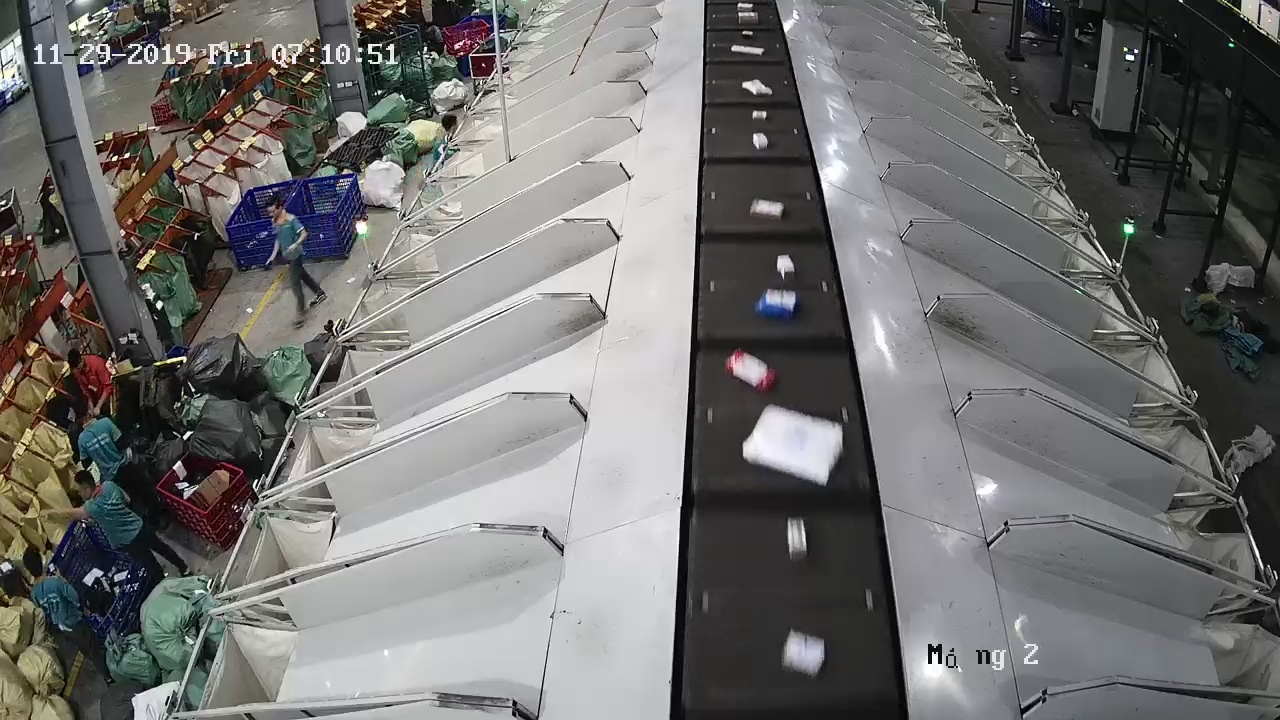parcel: (742, 403, 843, 487), (726, 348, 778, 395), (782, 630, 825, 679), (754, 288, 800, 320), (786, 516, 808, 562), (749, 197, 784, 223), (776, 254, 795, 281), (752, 132, 769, 151)
